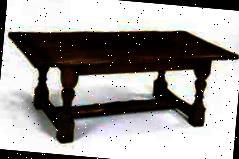Mesa: (0, 15, 238, 159)
